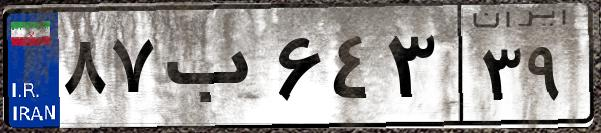3: (385, 28, 445, 110), (475, 38, 525, 113)
4: (330, 28, 385, 110)
6: (270, 28, 330, 110)
7: (110, 28, 158, 98)
8: (57, 26, 110, 100)
9: (525, 38, 570, 115)
ب: (158, 20, 270, 120)
